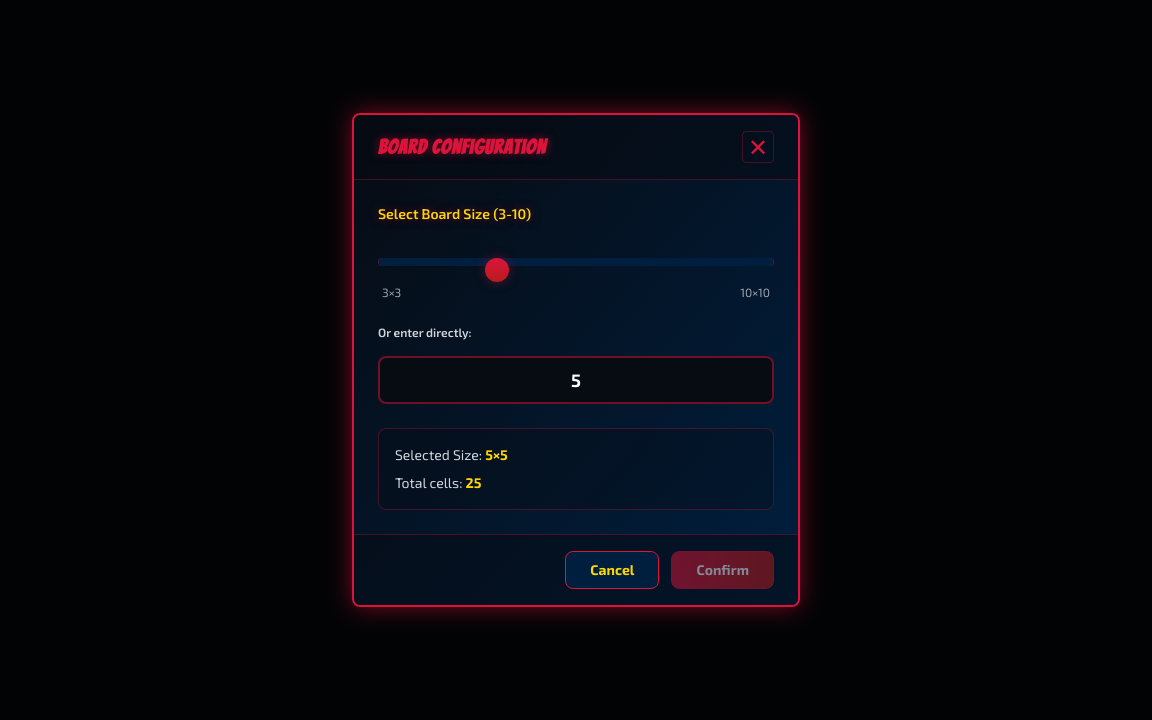
BoardConfiguration.vue › Requirements Validation › should validate Requirement 1.4: Show error message for invalid input
Replace the text in the number field with id "board-size-input" with "2". click: (576, 380)
box: 378,356 -> 774,404
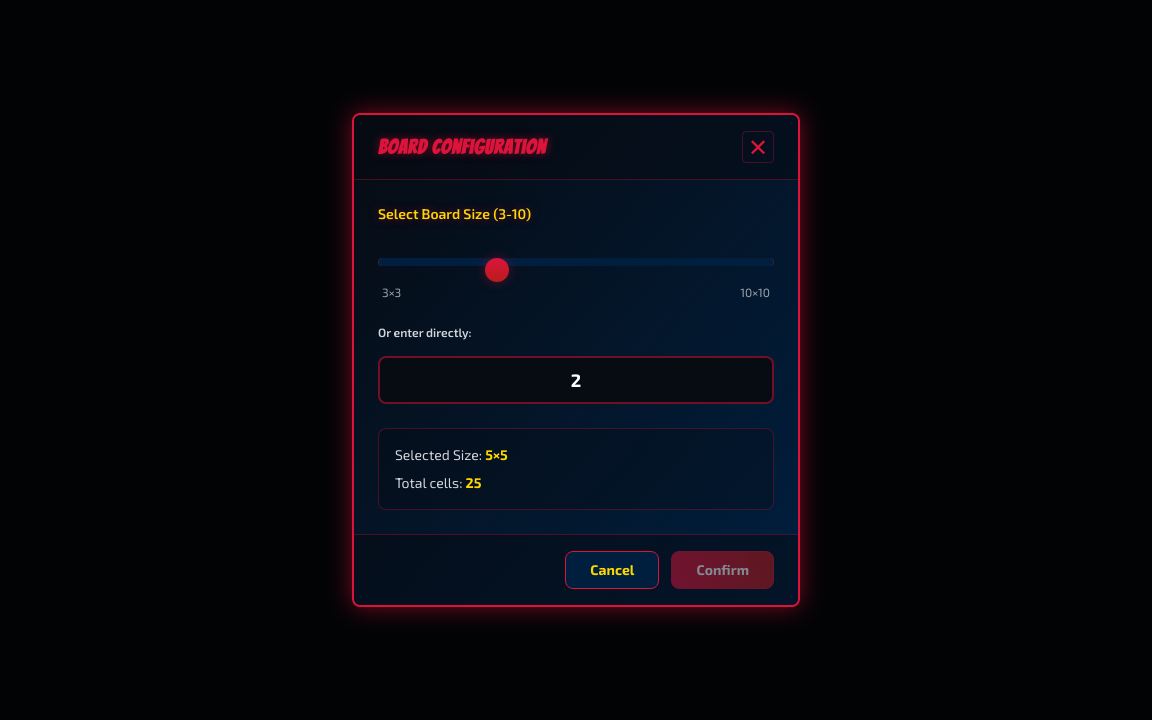
Leave the number field with id "board-size-input", box 378,356 -> 774,404
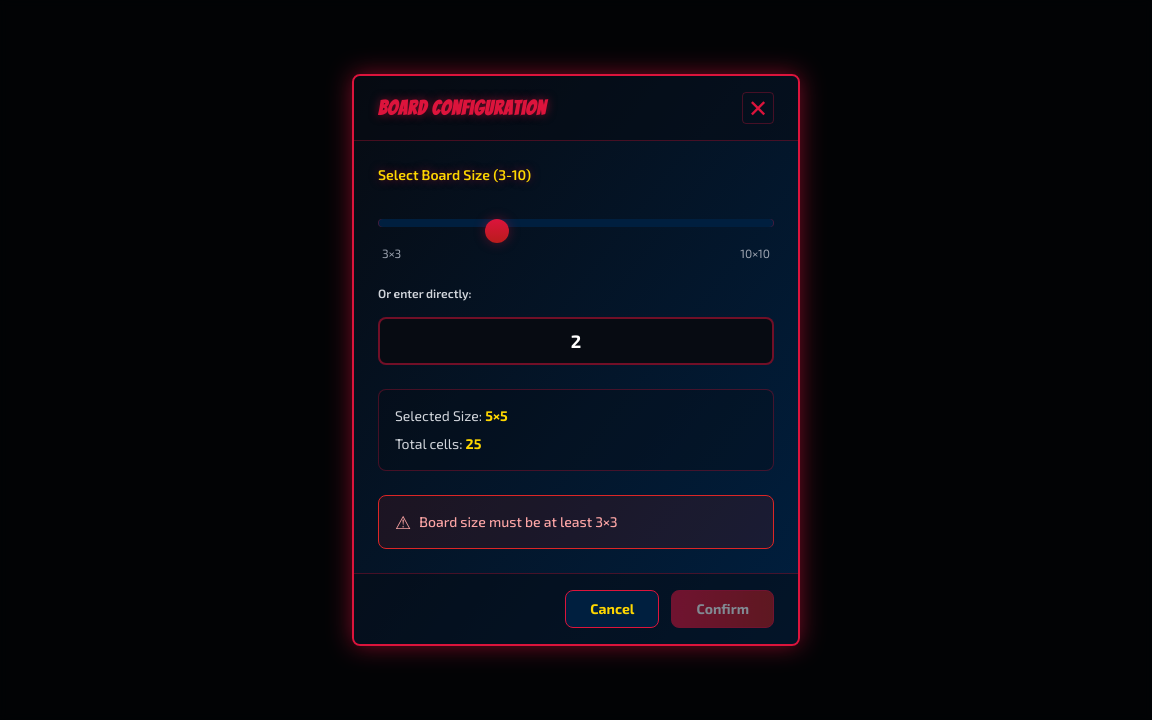
Result: the message "⚠ Board size must be at least 3×3" is shown at 378,495 -> 774,549
Result: the message with class "error-message" shows "must be at least 3×3" at 419,513 -> 618,530
